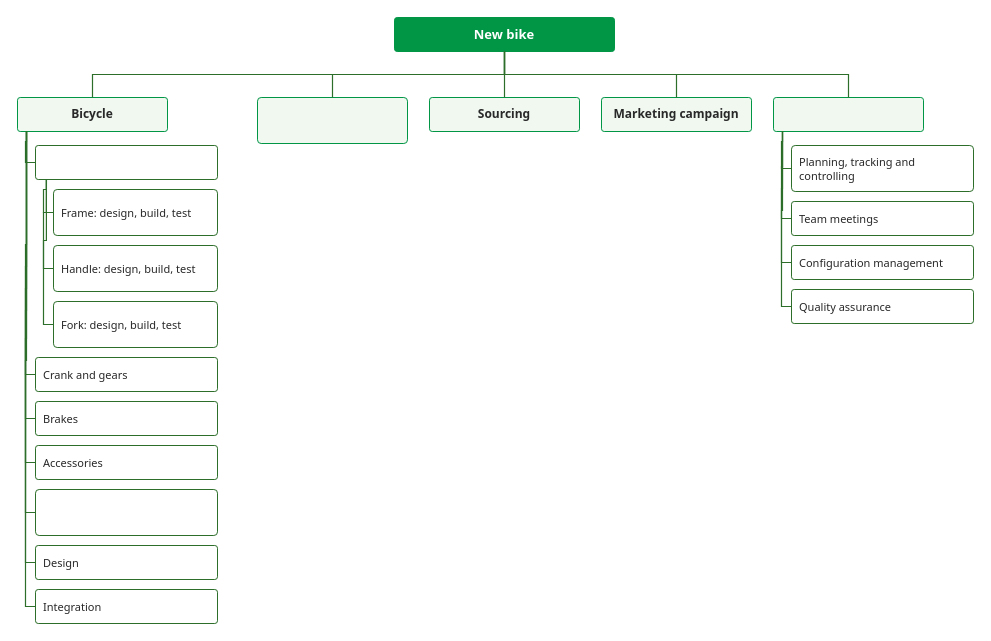
Some shapes in this 991 by 641 pixel diagram are drawn without their labels. Each missing label, with the centre of its shape:
"Assembly instructions: write, review" belongs at (x=126, y=512).
"Frame assembly" belongs at (x=126, y=162).
"Manufacturing instructions" belongs at (x=332, y=120).
"Project management" belongs at (x=848, y=114).
